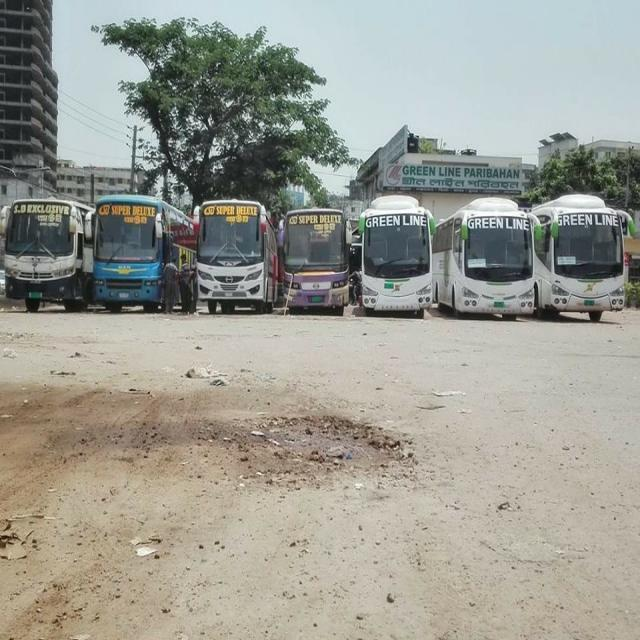bus: (531, 193, 638, 322), (435, 196, 543, 322), (87, 194, 197, 315), (0, 199, 96, 312), (193, 200, 279, 314), (359, 194, 437, 319), (283, 207, 352, 319)
